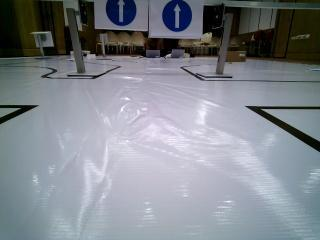straight: (150, 0, 202, 40), (97, 0, 148, 28)
